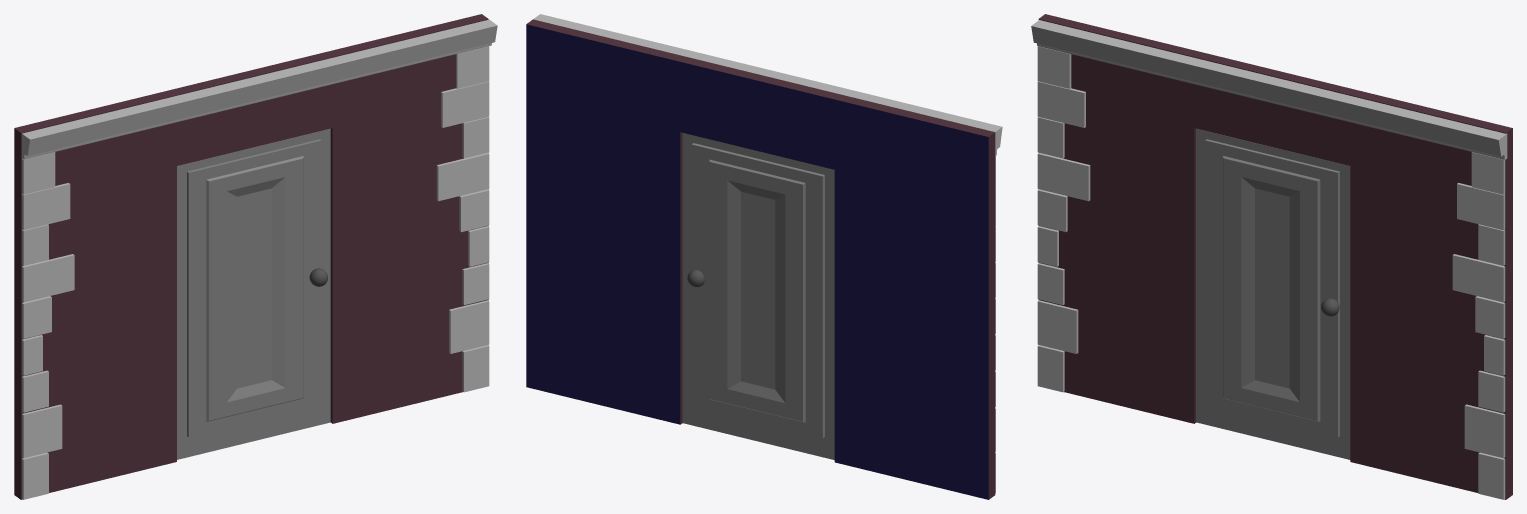
The model's file is SmallDoorWall.fbx.
3 renders of one model, left to right at view 1: azimuth 30°, elevation 25°; view 2: azimuth 150°, elevation 25°; view 3: azimuth 330°, elevation 25°, orthographic.
Parts seen in each view (by area): view 1: BASE.008, SMALL DOOR, WALL SIDES.005, WALL TOP.005; view 2: BASE.008, SMALL DOOR, WALL TOP.005; view 3: BASE.008, SMALL DOOR, WALL SIDES.005, WALL TOP.005.
Part boxes in pixels (x1,y1,x2,y2): BASE.008: (14, 14, 488, 499); SMALL DOOR: (177, 128, 330, 459); WALL SIDES.005: (22, 46, 489, 499); WALL TOP.005: (22, 19, 497, 159); BASE.008: (526, 19, 995, 499); SMALL DOOR: (682, 133, 834, 459); WALL TOP.005: (533, 14, 1002, 156); BASE.008: (1038, 14, 1512, 499); SMALL DOOR: (1196, 128, 1350, 459); WALL SIDES.005: (1037, 46, 1505, 499); WALL TOP.005: (1031, 20, 1507, 159).
Bounding box in the file's own units: 801 × 600 × 59.88.
